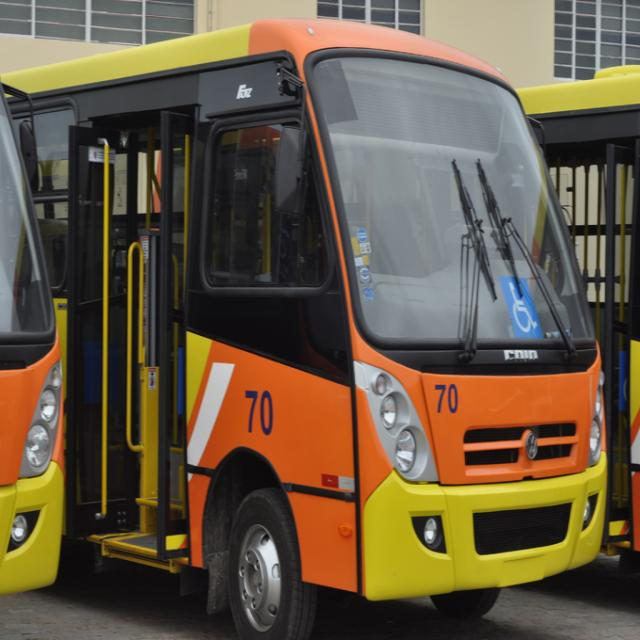Buses: (1, 18, 607, 640)
